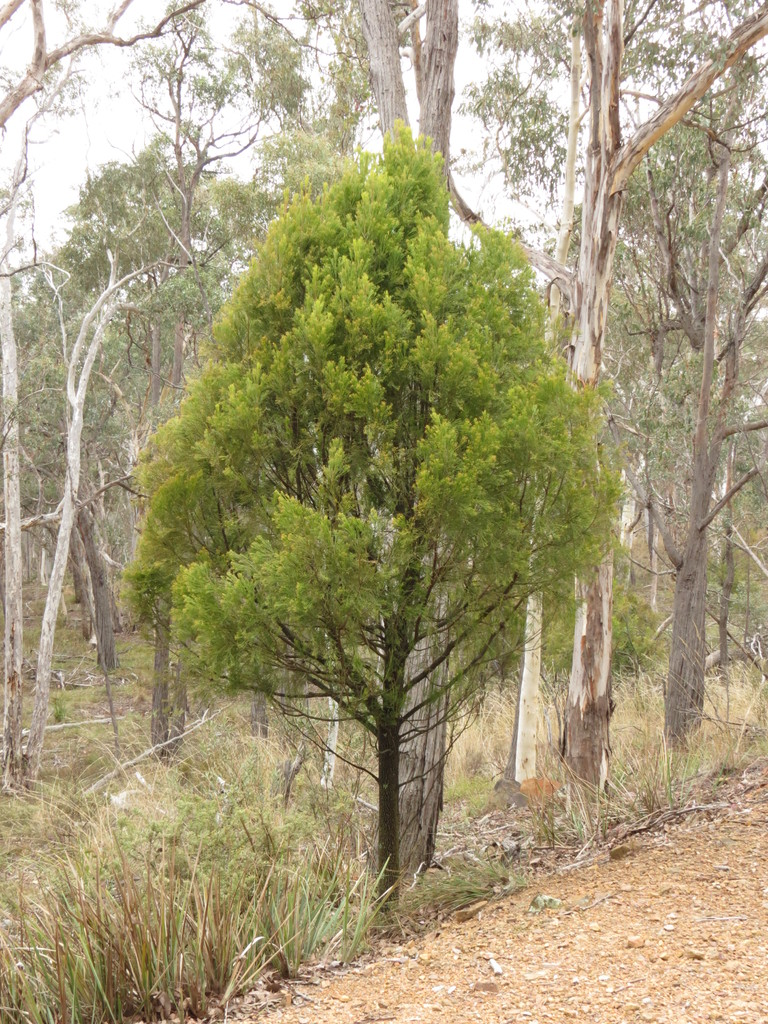Tree: (0, 0, 767, 889), (129, 116, 625, 907)
